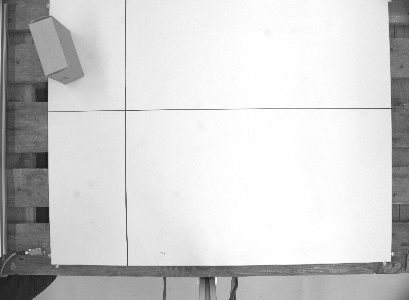b6: (25, 13, 86, 87)
